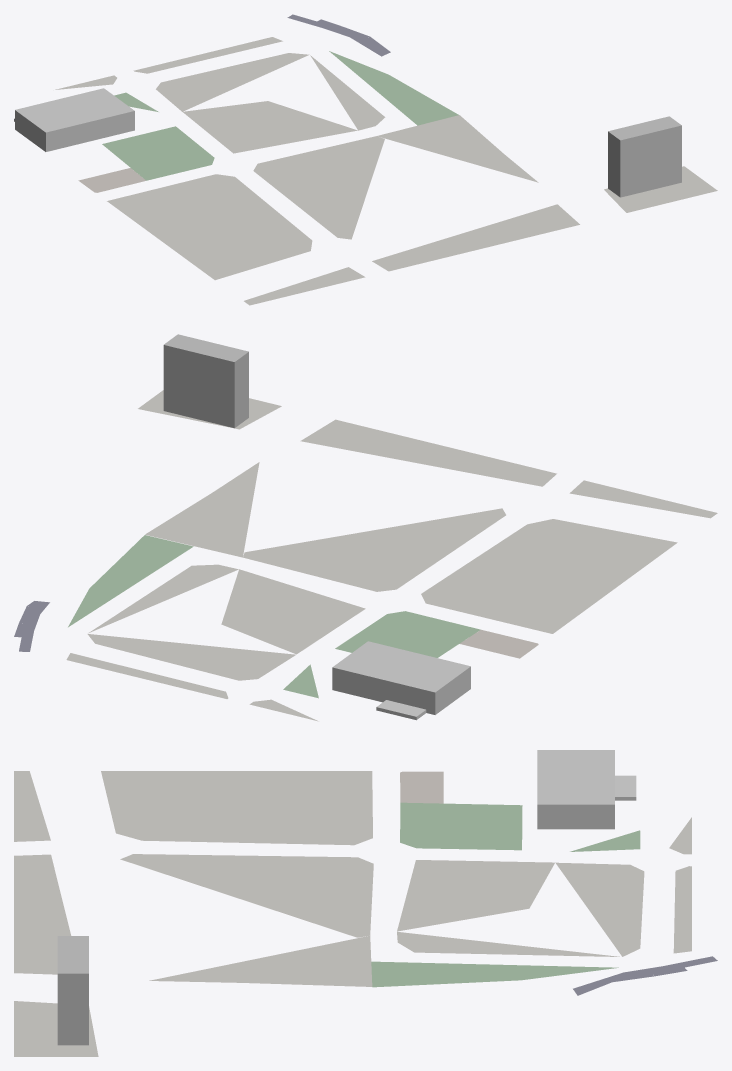
Rendered from 103_101_mid.glb.
The picture shows the model from 3 angles, top to bottom: view 1: azimuth 30°, elevation 25°; view 2: azimuth 150°, elevation 25°; view 3: azimuth 270°, elevation 25°; orthographic projection. The views are drawn at different scales.
Bounding box in the file's own units: 500 × 59.6 × 519.
